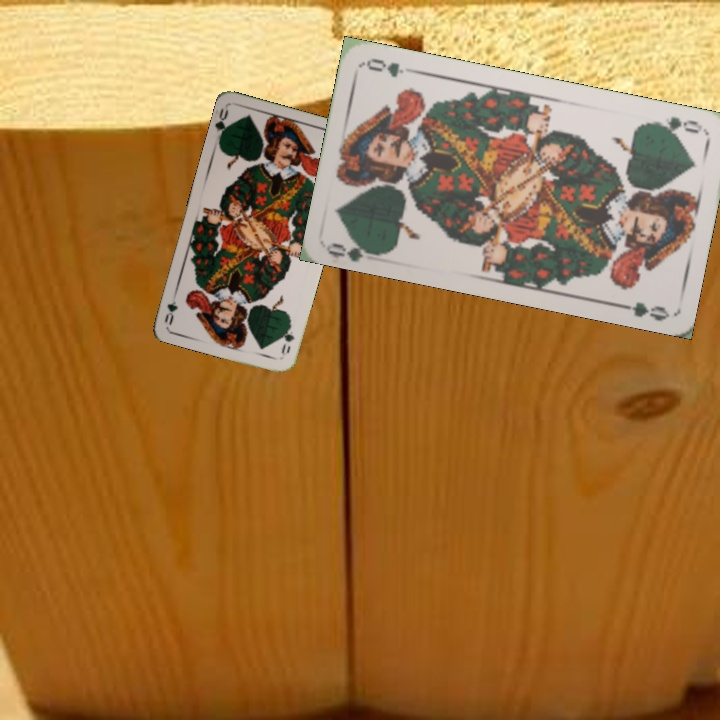GO: (326, 234, 386, 263), (648, 112, 707, 139), (212, 104, 234, 145), (277, 319, 297, 359)
